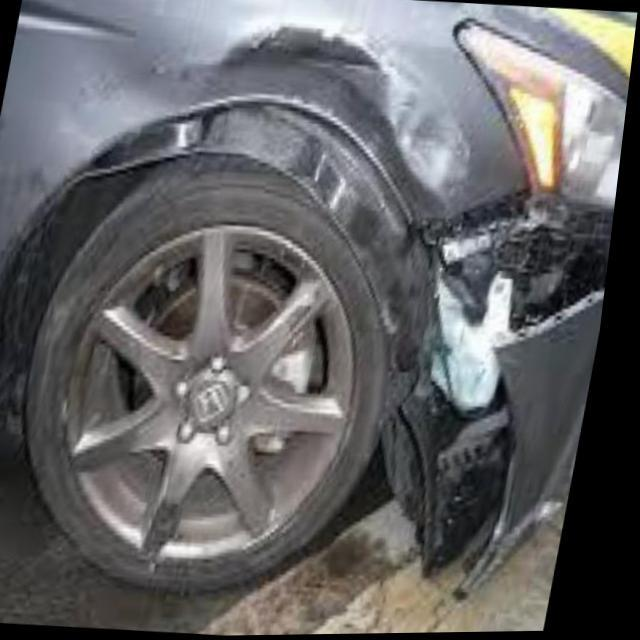dent: (81, 17, 466, 324)
dislocated part: (406, 193, 620, 598)
